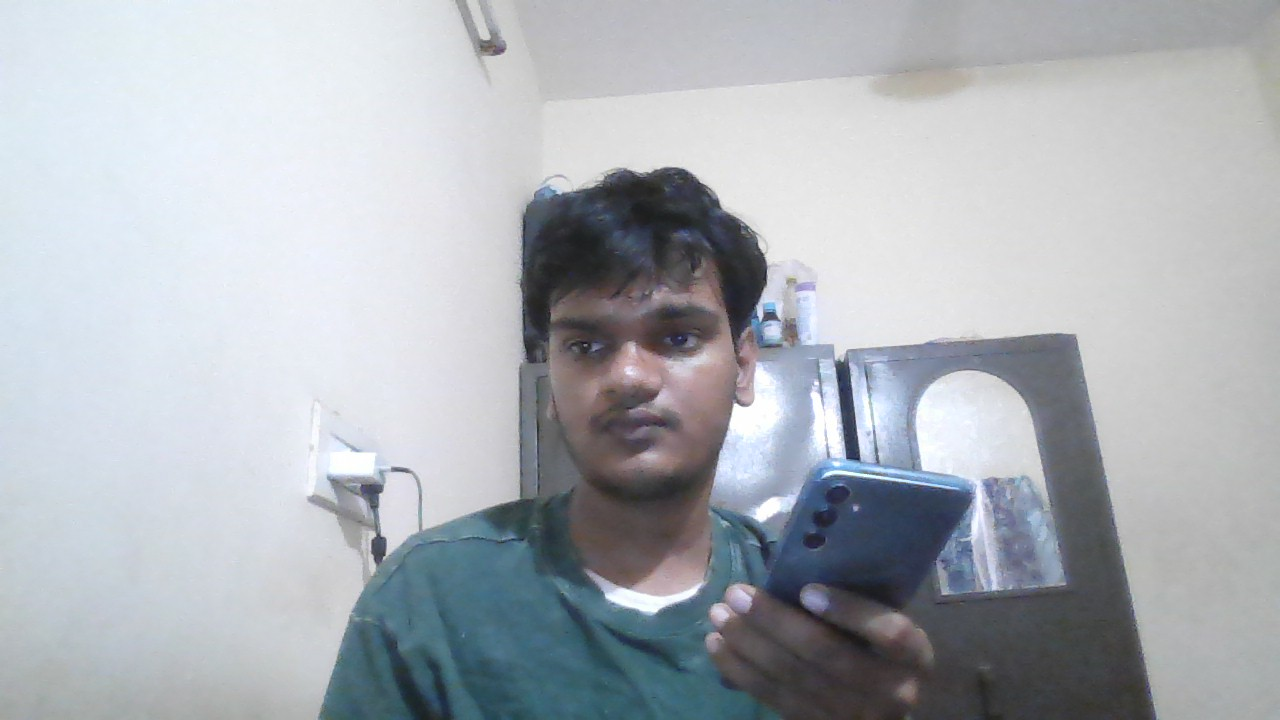phone: (797, 468, 955, 576)
